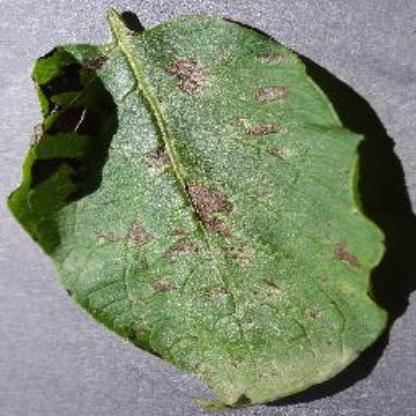Early-Blight: (7, 6, 397, 408)
